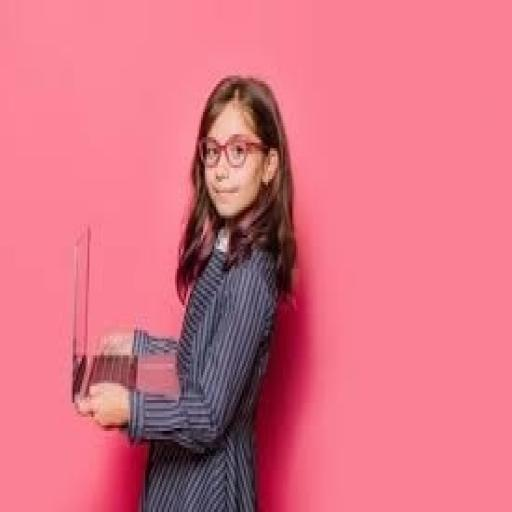using_laptop: (47, 191, 209, 454)
